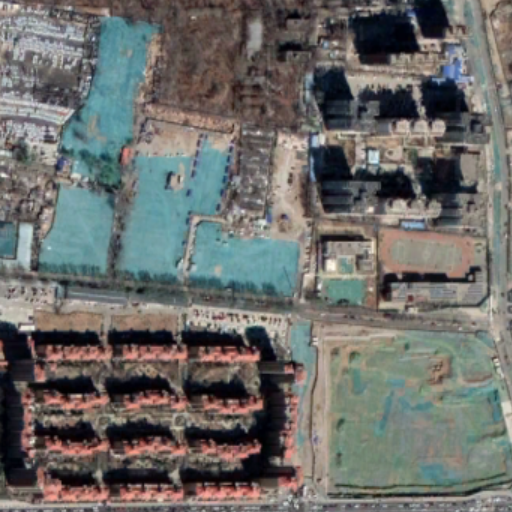cw: (36, 15, 302, 297), (288, 320, 512, 498)
